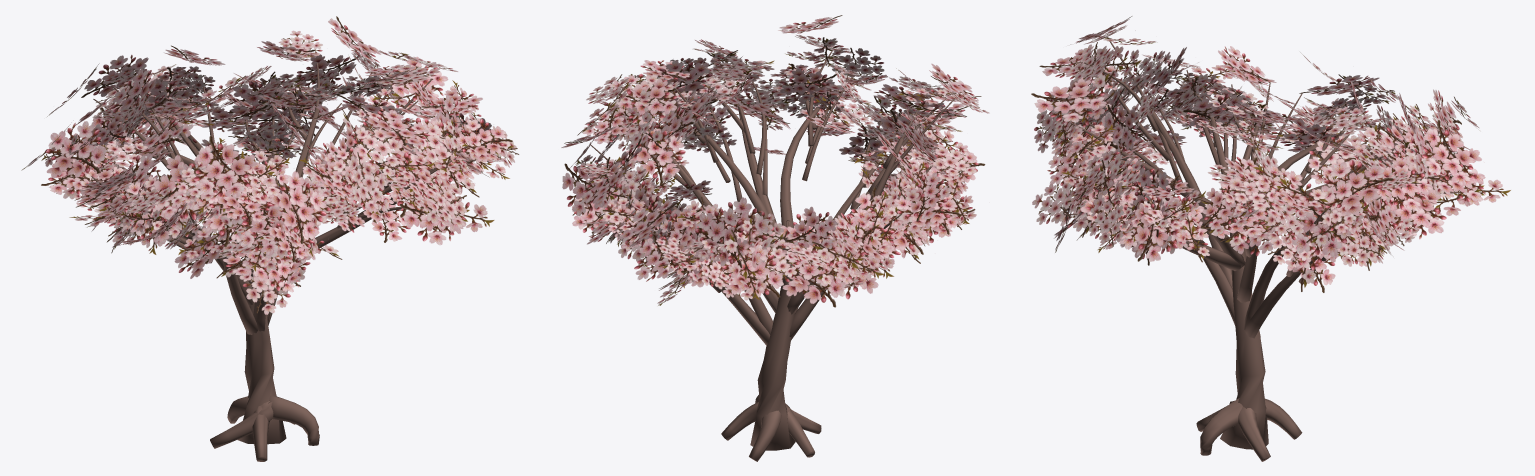
The model's file is sakura_1.glb.
3 renders of one model, left to right at view 1: azimuth 30°, elevation 25°; view 2: azimuth 150°, elevation 25°; view 3: azimuth 270°, elevation 25°, orthographic. The views are drawn at different scales.
Parts seen in each view (by area): view 1: GEO-Sakura individual flower sprigs, GEO-Sakura flowing trunk and twigs; view 2: GEO-Sakura individual flower sprigs, GEO-Sakura flowing trunk and twigs; view 3: GEO-Sakura individual flower sprigs, GEO-Sakura flowing trunk and twigs.
Part boxes in pixels (x1,y1,x2,y2): GEO-Sakura individual flower sprigs: (21, 16, 518, 314); GEO-Sakura flowing trunk and twigs: (72, 63, 475, 461); GEO-Sakura individual flower sprigs: (561, 15, 989, 307); GEO-Sakura flowing trunk and twigs: (589, 50, 955, 461); GEO-Sakura individual flower sprigs: (1031, 16, 1510, 292); GEO-Sakura flowing trunk and twigs: (1058, 37, 1463, 461).
Bounding box in the file's own units: 5.39 × 4.77 × 5.58.
2 materials, 1 textured.
